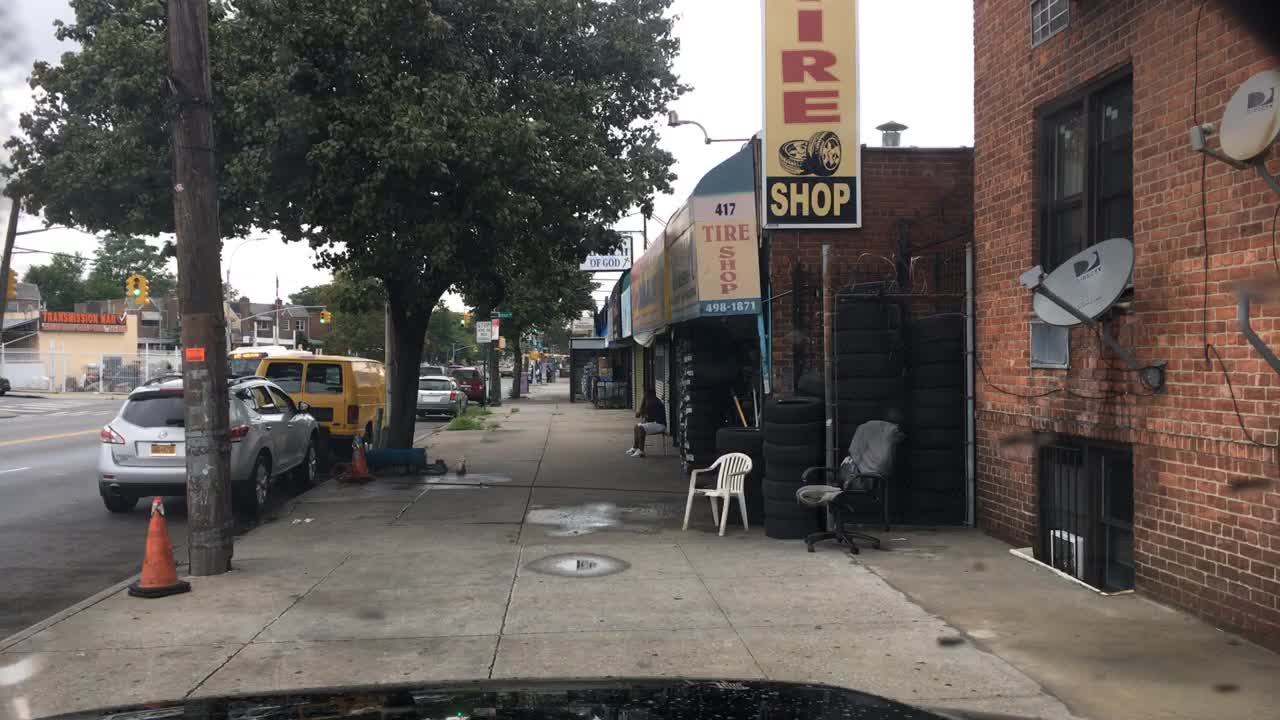car: (95, 374, 323, 515), (257, 356, 388, 456), (224, 344, 311, 380), (417, 375, 469, 419), (451, 366, 487, 404), (418, 365, 448, 377), (550, 359, 568, 377), (0, 375, 10, 398), (495, 365, 511, 377), (505, 356, 519, 365), (496, 360, 511, 365)
person: (622, 389, 665, 458), (532, 365, 541, 383), (525, 362, 532, 383), (544, 363, 550, 383)
traffic light: (7, 266, 17, 301), (141, 278, 150, 307), (131, 275, 140, 302), (457, 314, 469, 327), (538, 345, 547, 362), (125, 277, 131, 301), (317, 311, 326, 324), (528, 350, 537, 362), (469, 344, 478, 356), (323, 311, 330, 324)
traffic sign: (474, 323, 492, 341), (492, 310, 513, 319), (490, 320, 499, 339), (531, 339, 543, 350), (496, 336, 505, 350)
